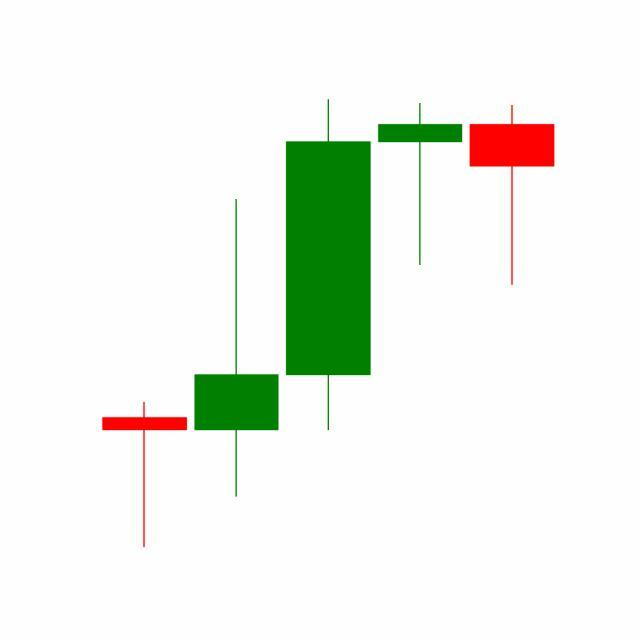Spinning Top: (374, 102, 468, 268)
